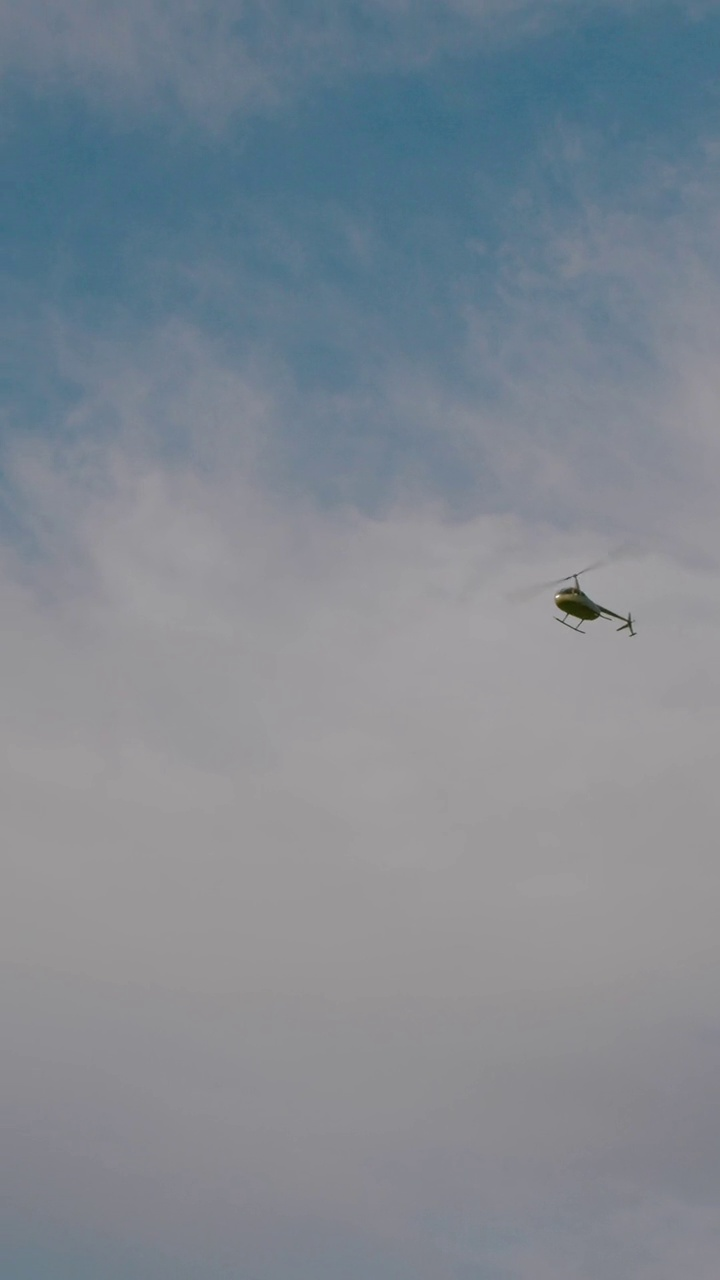heli: (543, 552, 637, 637)
